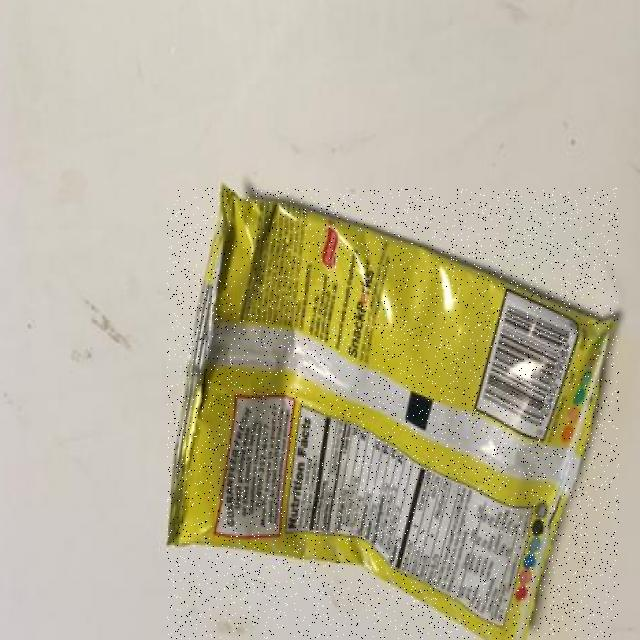wrapper: (167, 189, 619, 640)
